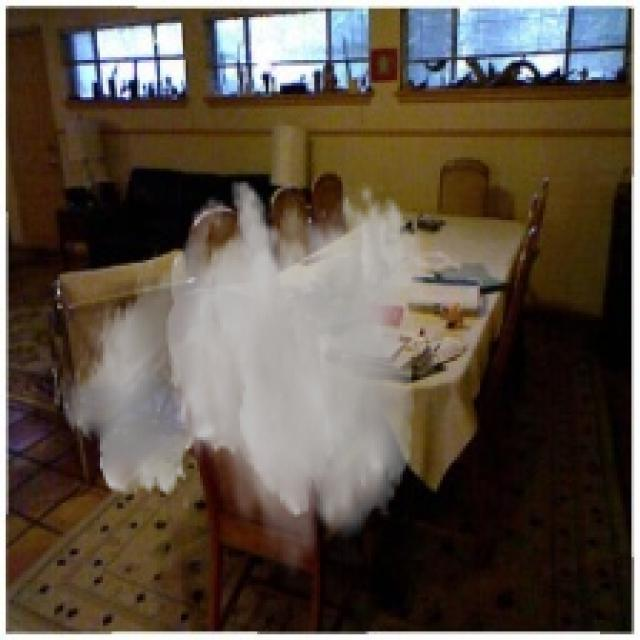Smoke: (51, 177, 426, 583)
